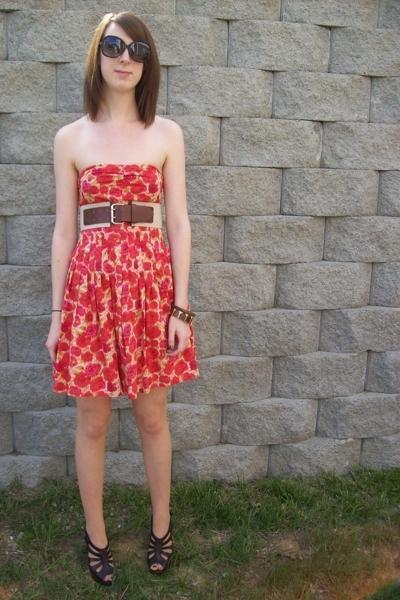dress: (46, 162, 197, 398)
shoe: (141, 531, 171, 563)
sunglass: (96, 25, 131, 59)
